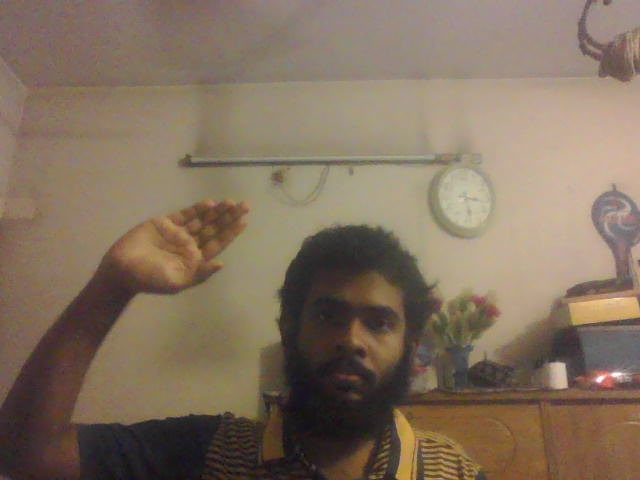Hello: (109, 200, 255, 294)
